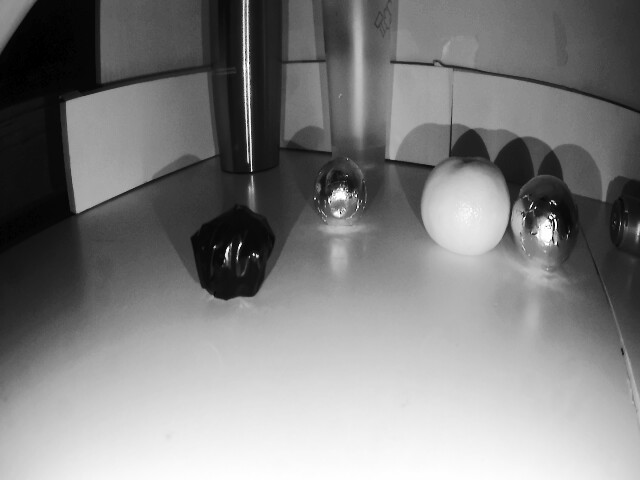black: (186, 210, 277, 298)
silver: (513, 174, 580, 268), (313, 160, 369, 226)
